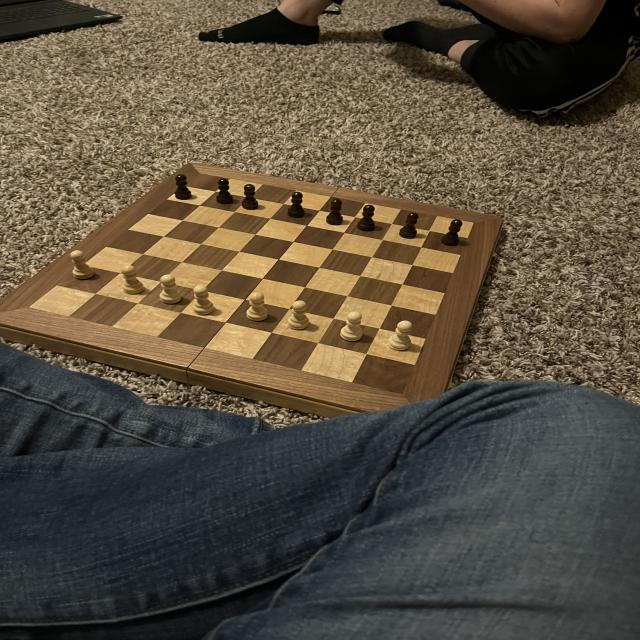black-knight: (211, 176, 237, 207), (440, 217, 464, 248), (355, 202, 378, 234), (324, 196, 348, 226), (397, 211, 421, 240), (172, 173, 196, 201), (242, 182, 261, 210), (288, 190, 306, 218)
white-knight: (387, 320, 418, 351), (337, 311, 366, 343), (118, 264, 148, 294), (69, 249, 98, 280), (287, 298, 314, 330), (158, 273, 184, 306), (192, 285, 216, 316), (246, 290, 270, 321)
